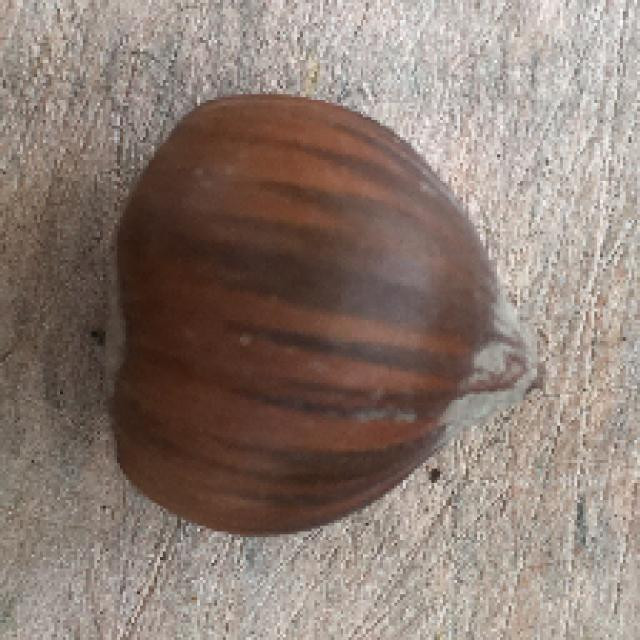DamagedHazelnut: (102, 98, 552, 536)
